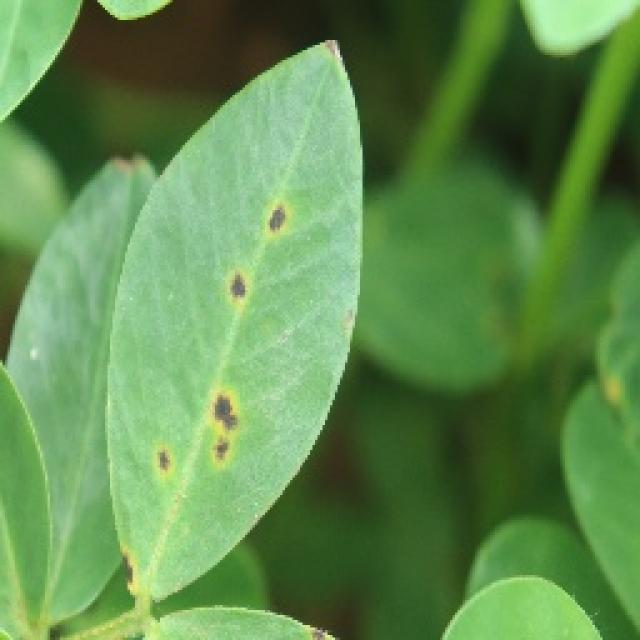Sigatoka: (194, 361, 244, 477), (101, 149, 182, 209), (218, 254, 265, 320), (252, 196, 306, 252), (141, 444, 185, 502)
